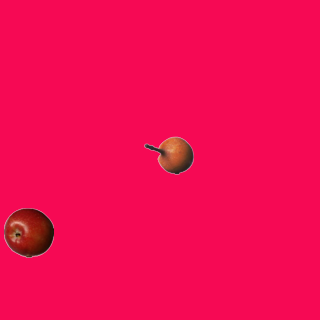Apple Braeburn: (3, 207, 53, 257)
Granadilla: (143, 130, 193, 180)
